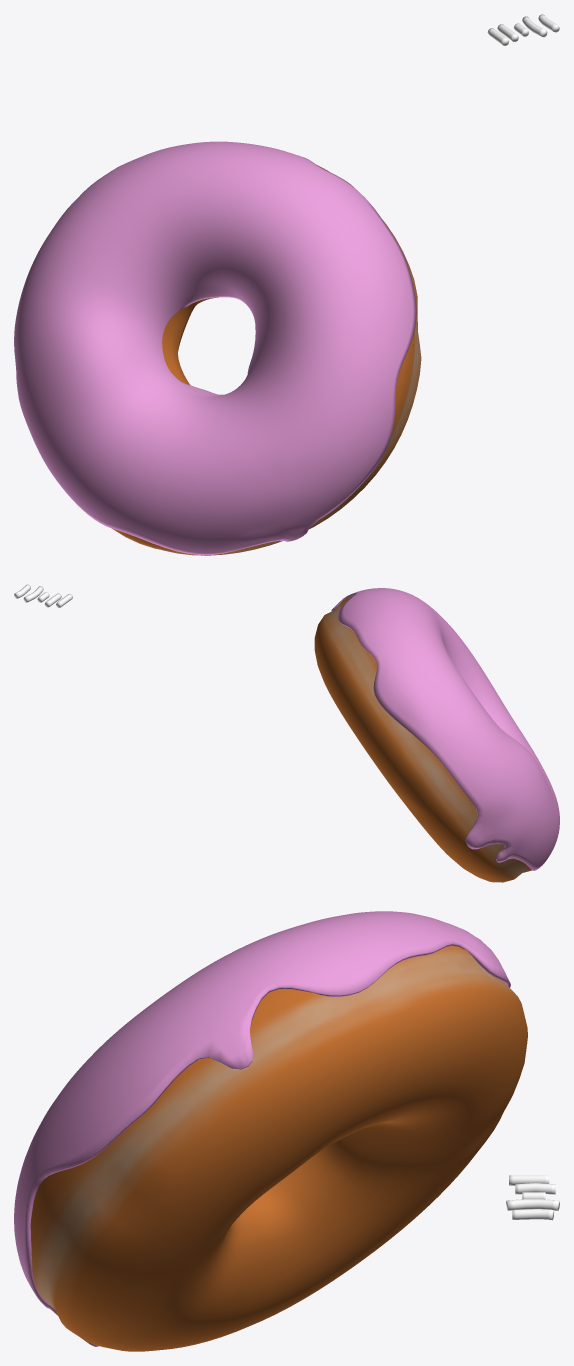
Rendered from asset.glb.
3 views of the same model, one above another, from view 1: azimuth 30°, elevation 25°; view 2: azimuth 150°, elevation 25°; view 3: azimuth 270°, elevation 25° (orthographic). The views are drawn at different scales.
Visible parts, largest first — view 1: Icing, Donut; view 2: Icing, Donut; view 3: Donut, Icing, Sprinkle.003.
Part boxes in pixels (x1,y1,x2,y2): Icing: (14, 141, 416, 555); Donut: (112, 165, 421, 555); Icing: (331, 588, 559, 870); Donut: (314, 596, 532, 882); Donut: (30, 946, 527, 1351); Icing: (14, 911, 510, 1346); Sprinkle.003: (506, 1199, 559, 1210).
Bounding box in the file's own units: 0.2413 × 0.1338 × 0.1422.
Materials: 3 (1 with a texture image).
